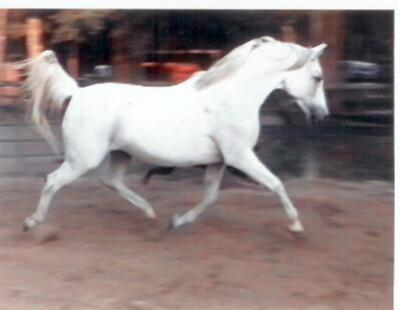horse: (10, 35, 329, 239)
